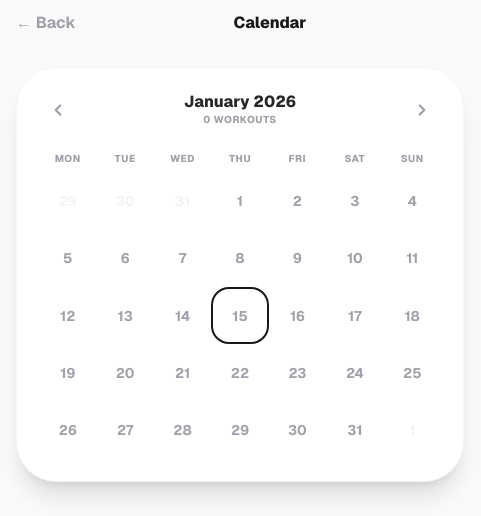
Test case: CalendarView › moves across the year boundary when navigating to the previous month
Check: the heading "January 2026" is shown, box [184,92,296,112]
Step 1. Click the button named "Previous month" → (58, 110), box [41,92,75,126]
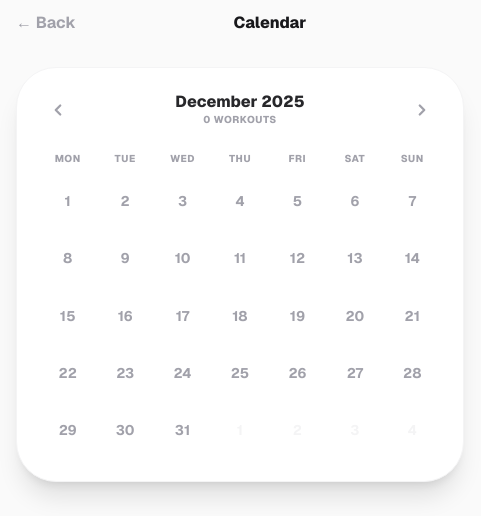
Check: the heading "December 2025" is shown, box [175,92,305,112]
